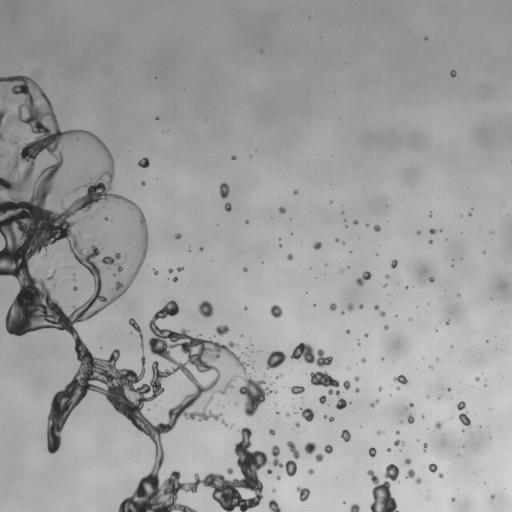droplet: (366, 464, 399, 511), (271, 441, 299, 476), (266, 350, 286, 369), (198, 300, 213, 317), (300, 407, 314, 421), (296, 487, 310, 501), (459, 412, 471, 427), (270, 304, 282, 318), (393, 374, 408, 385), (219, 182, 229, 198), (268, 499, 281, 511), (304, 442, 316, 454), (215, 325, 229, 335), (290, 385, 304, 394), (138, 157, 149, 167), (341, 429, 350, 441), (456, 401, 465, 410), (428, 463, 437, 472), (406, 469, 415, 478), (368, 447, 376, 457), (349, 503, 359, 511), (342, 380, 350, 389), (318, 395, 326, 404), (324, 444, 332, 453), (313, 241, 321, 249), (434, 421, 442, 429), (315, 453, 323, 461), (224, 202, 231, 211), (390, 259, 397, 268), (407, 415, 414, 423), (394, 440, 403, 446), (347, 303, 353, 311), (450, 70, 456, 77), (278, 207, 285, 213), (330, 303, 336, 310), (404, 458, 411, 464), (374, 225, 380, 231), (287, 254, 293, 260), (269, 429, 275, 435), (227, 468, 233, 474), (429, 229, 435, 234), (407, 402, 413, 407), (221, 420, 227, 425), (415, 478, 421, 483), (176, 267, 183, 271), (175, 234, 180, 239), (429, 277, 434, 282), (380, 311, 385, 316), (354, 376, 359, 381), (295, 422, 300, 427), (308, 469, 313, 474), (438, 473, 443, 478), (103, 216, 109, 220), (276, 374, 282, 378), (353, 220, 358, 224), (172, 277, 177, 281), (329, 417, 334, 421), (490, 494, 494, 499), (0, 134, 3, 140), (141, 181, 145, 185), (293, 190, 297, 194), (335, 238, 339, 242), (199, 247, 203, 251), (243, 267, 247, 271), (385, 274, 389, 278), (73, 286, 77, 290), (359, 304, 363, 308), (374, 305, 378, 309), (445, 320, 449, 324), (384, 325, 388, 329), (361, 358, 365, 362), (475, 377, 479, 381), (378, 386, 382, 390), (355, 388, 359, 392), (267, 469, 271, 473), (276, 475, 280, 479), (0, 154, 3, 158), (169, 268, 172, 272), (154, 270, 157, 274), (346, 330, 350, 333), (396, 387, 400, 390), (451, 498, 455, 501), (232, 156, 235, 159), (429, 213, 432, 216), (104, 233, 107, 236), (429, 240, 432, 243), (364, 333, 367, 336), (429, 365, 432, 368), (447, 388, 450, 391), (286, 413, 289, 416), (323, 415, 326, 418), (229, 424, 232, 427), (377, 431, 380, 434), (396, 431, 399, 434), (387, 448, 390, 451), (424, 37, 427, 39), (156, 116, 158, 119), (468, 213, 471, 215), (246, 220, 248, 223), (417, 231, 420, 233), (44, 254, 46, 257), (383, 284, 386, 286), (457, 294, 460, 296), (244, 307, 247, 309), (276, 411, 278, 414), (462, 429, 464, 432), (272, 489, 275, 491), (330, 200, 332, 202), (366, 224, 368, 226), (483, 252, 485, 254), (341, 269, 343, 271), (381, 358, 383, 360), (421, 415, 423, 417)
ligament: (0, 77, 274, 511), (310, 371, 348, 409), (290, 342, 332, 367), (129, 318, 143, 347), (356, 271, 371, 286), (370, 399, 379, 407), (423, 443, 427, 452)
